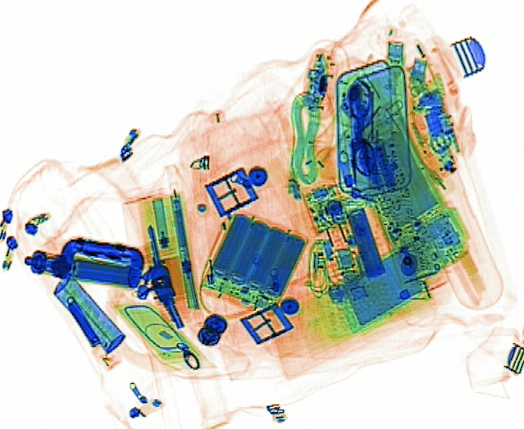powerbank: (197, 209, 306, 317)
